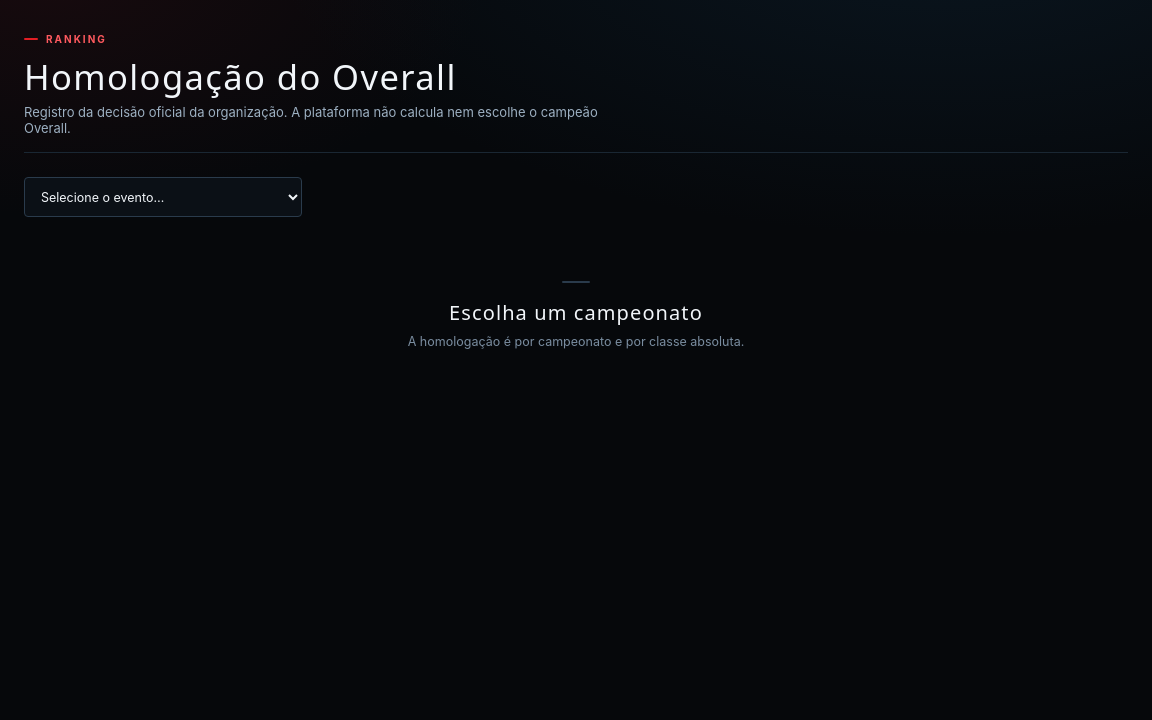
Test: o campeonato e o recorte › mostra campeonato, temporada e organização
This screenshot has width=1152, height=720.
Select "Etapa Cuiabá — Resultados publicados" in the dropdown named "selecionar evento" at (163, 197), box [24,177,302,217]
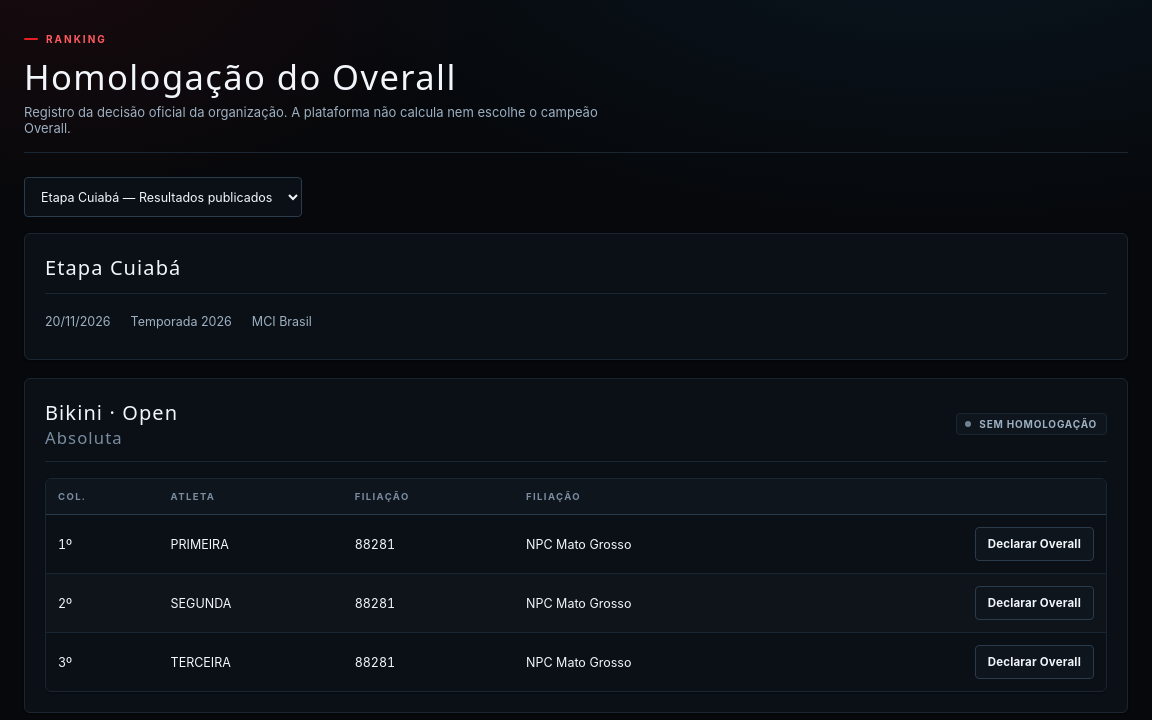
Expected: the heading "Etapa Cuiabá" is shown, [45,254,181,281]
Expected: the text "Temporada 2026" is shown, [131,314,232,329]
Expected: the text "MCI Brasil" is shown, [252,314,312,329]
